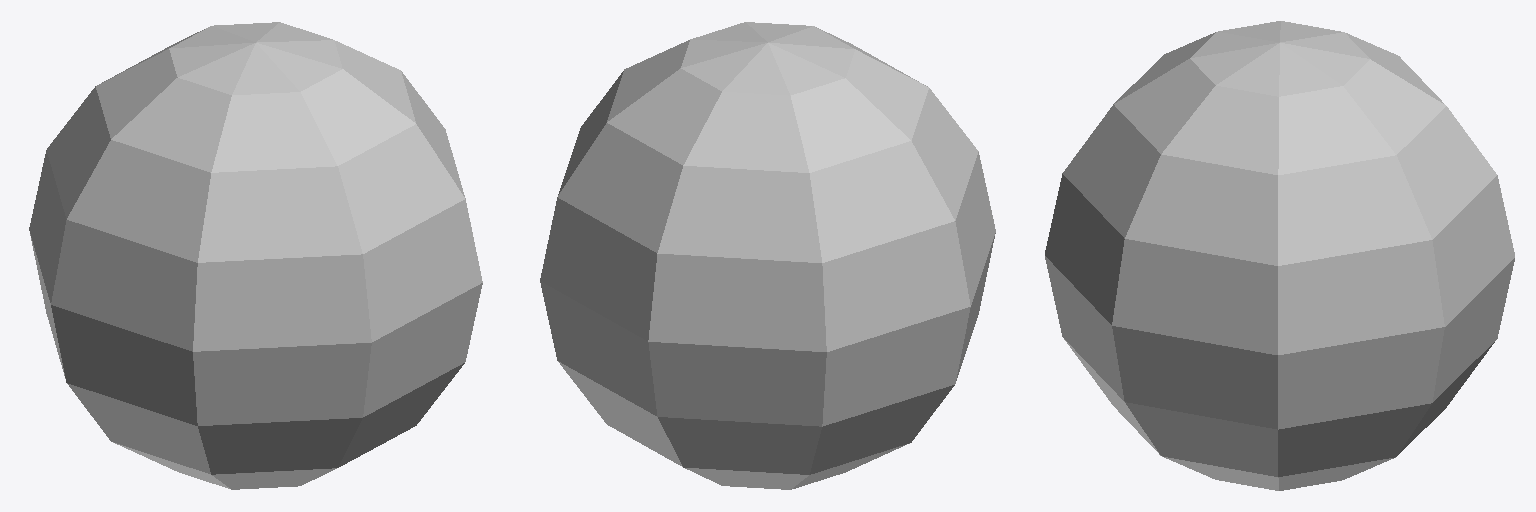
The model's file is cocos.obj.
3 renders of one model, left to right at view 1: azimuth 30°, elevation 25°; view 2: azimuth 150°, elevation 25°; view 3: azimuth 270°, elevation 25°, orthographic.
Visible parts, largest first — view 1: Plane_Plane.003; view 2: Plane_Plane.003; view 3: Plane_Plane.003.
Boxes of the visible parts, box(x1,y1,x2,y2) form: Plane_Plane.003: box(29, 22, 482, 489); Plane_Plane.003: box(540, 22, 995, 489); Plane_Plane.003: box(1045, 21, 1514, 490).
Bounding box in the file's own units: 2.2 × 2.2 × 2.2.